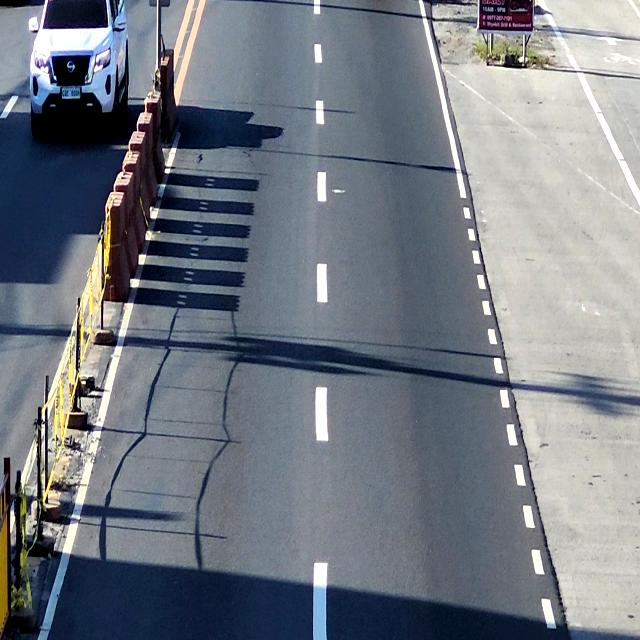License-Plate: (61, 86, 82, 102)
